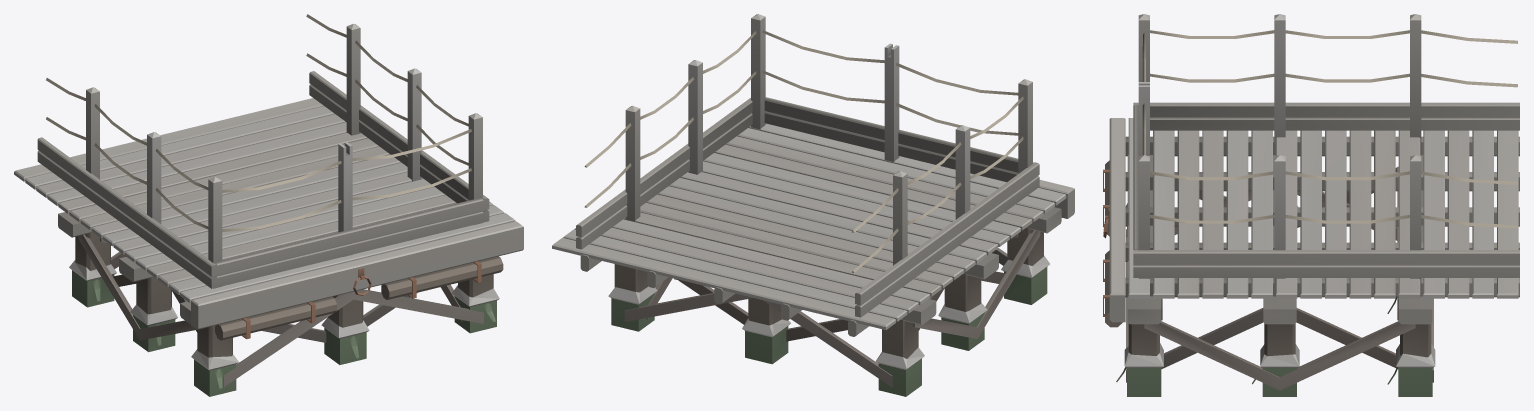
Rendered from pierhead.glb.
3 renders of one model, left to right at view 1: azimuth 30°, elevation 25°; view 2: azimuth 150°, elevation 25°; view 3: azimuth 270°, elevation 25°, orthographic. The views are drawn at different scales.
Parts seen in each view (by area): view 1: pierhead; view 2: pierhead; view 3: pierhead.
Boxes of the visible parts, x1=… form: pierhead: x1=14, y1=14, x2=523, y2=396; pierhead: x1=552, y1=14, x2=1074, y2=396; pierhead: x1=1103, y1=14, x2=1519, y2=396.
Size of the model in its own units: 4 by 2.48 by 3.99.
